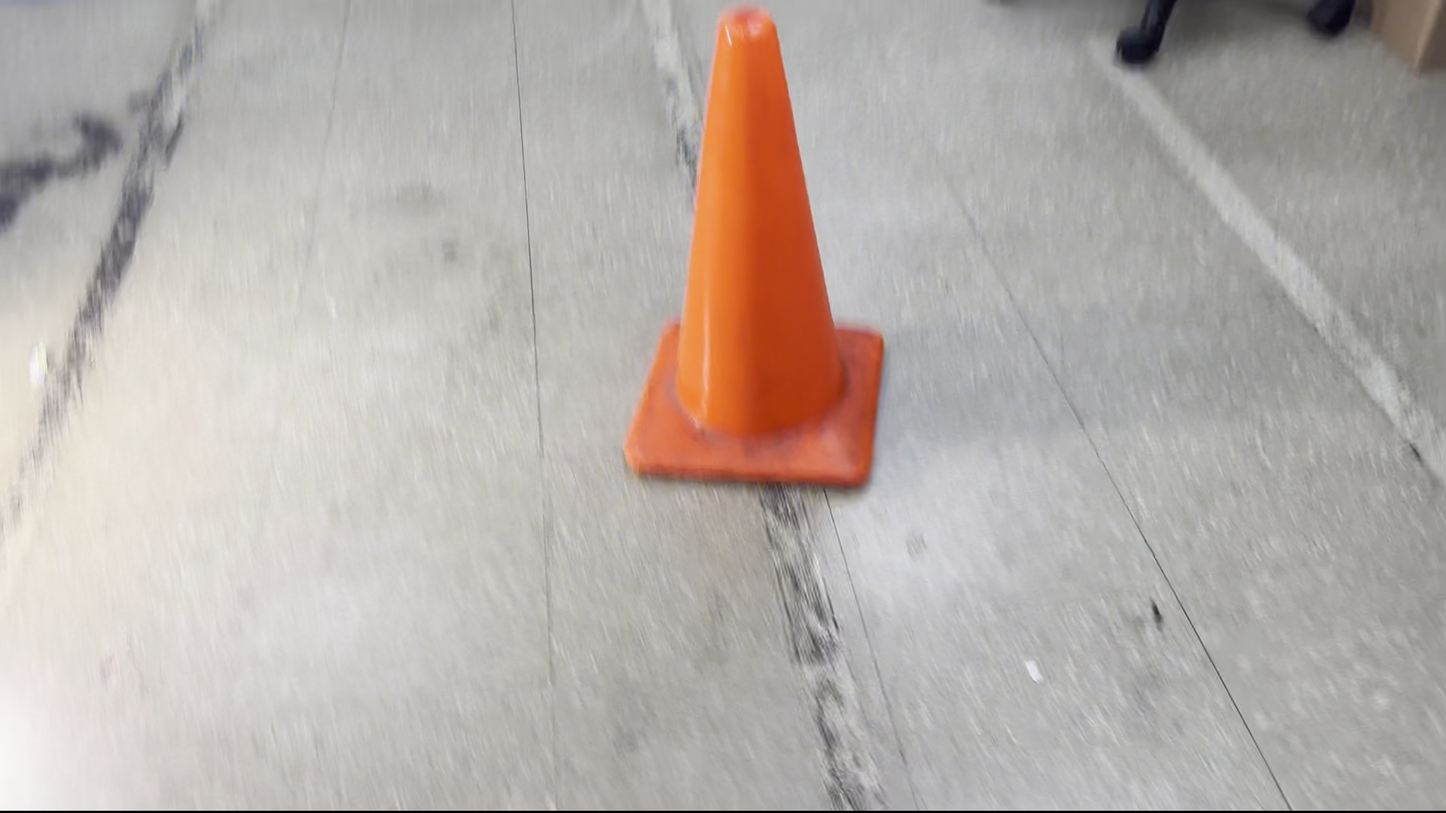traffic_cone: (622, 4, 885, 489)
